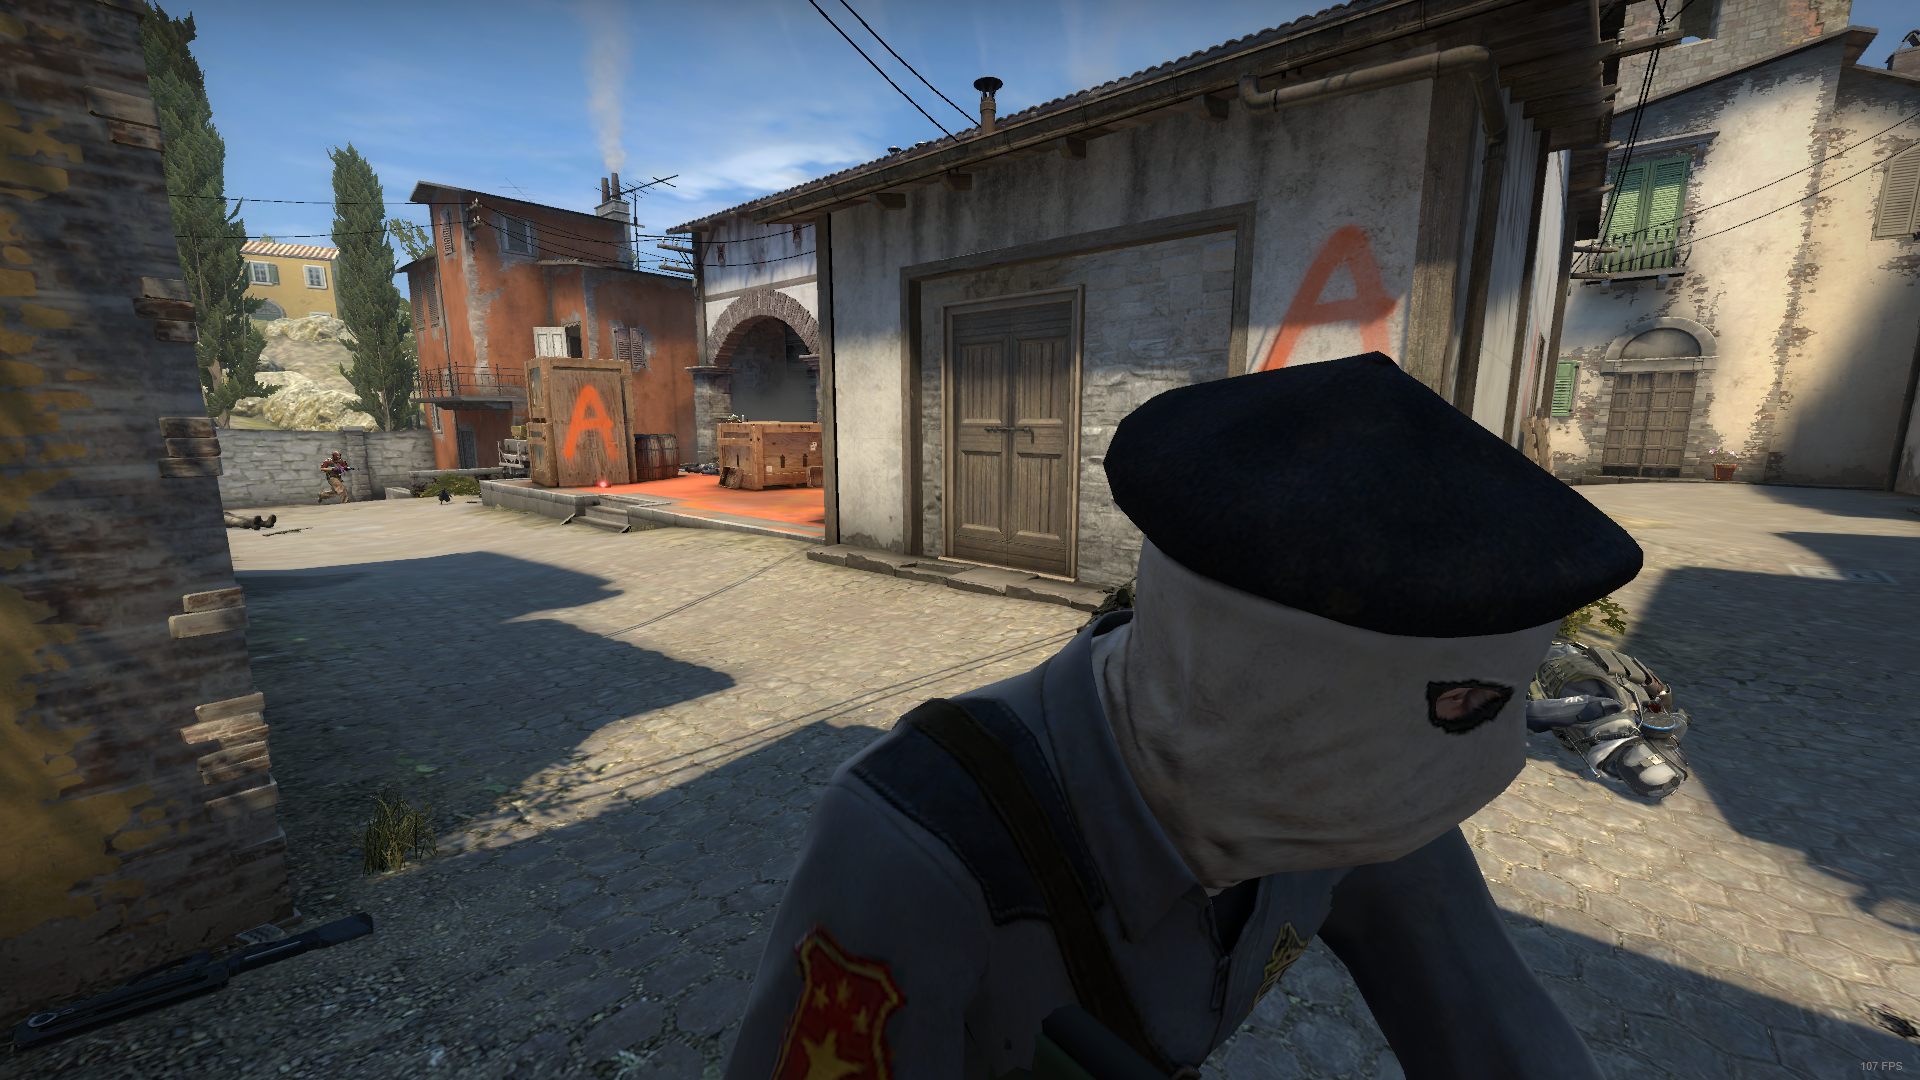t: (696, 355, 1656, 1080)
